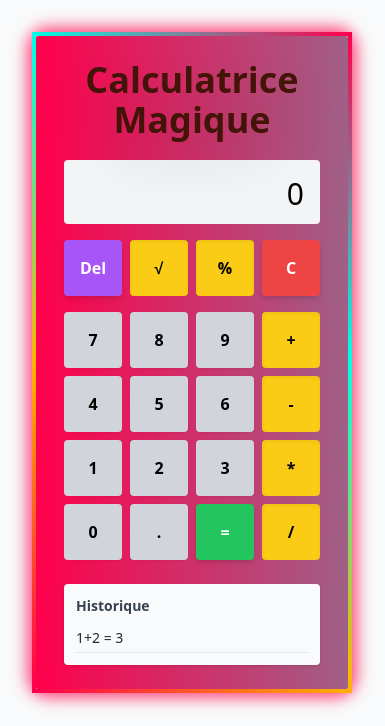
Test: Calculatrice › efface le dernier caractère avec Del
This screenshot has width=385, height=726.
Click the button "1": click(93, 468) [64,440,122,496]
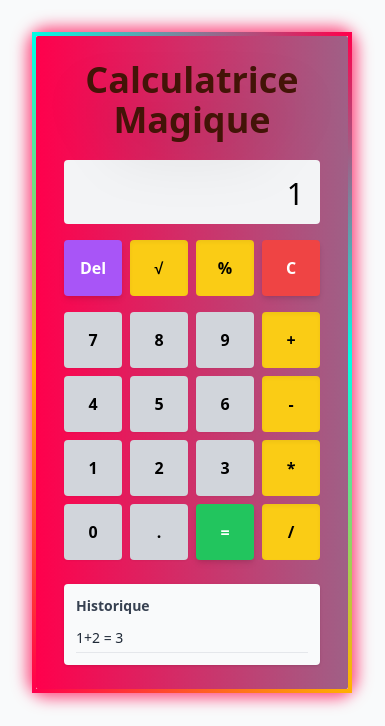
Click the button "2": click(159, 468) [130,440,188,496]
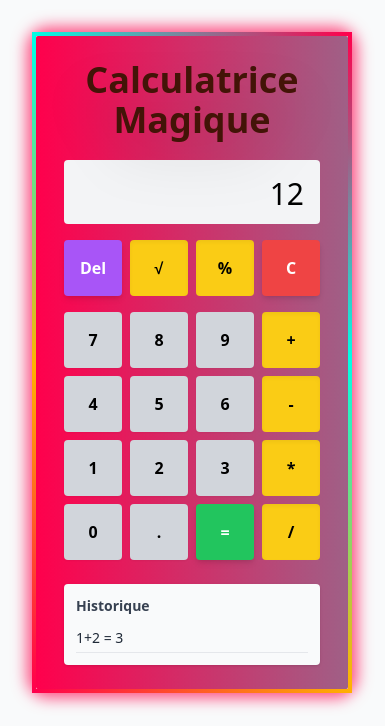
Expected: the text with test id "display" reads "12", [270,173,304,214]
// Supprime le dernier chiffre "2"
Click the button "Del": click(93, 268) [64,240,122,296]
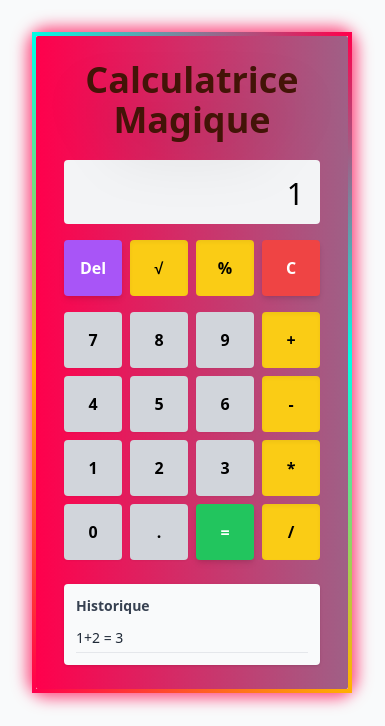
Expected: the text with test id "display" reads "1", [287,173,304,214]
